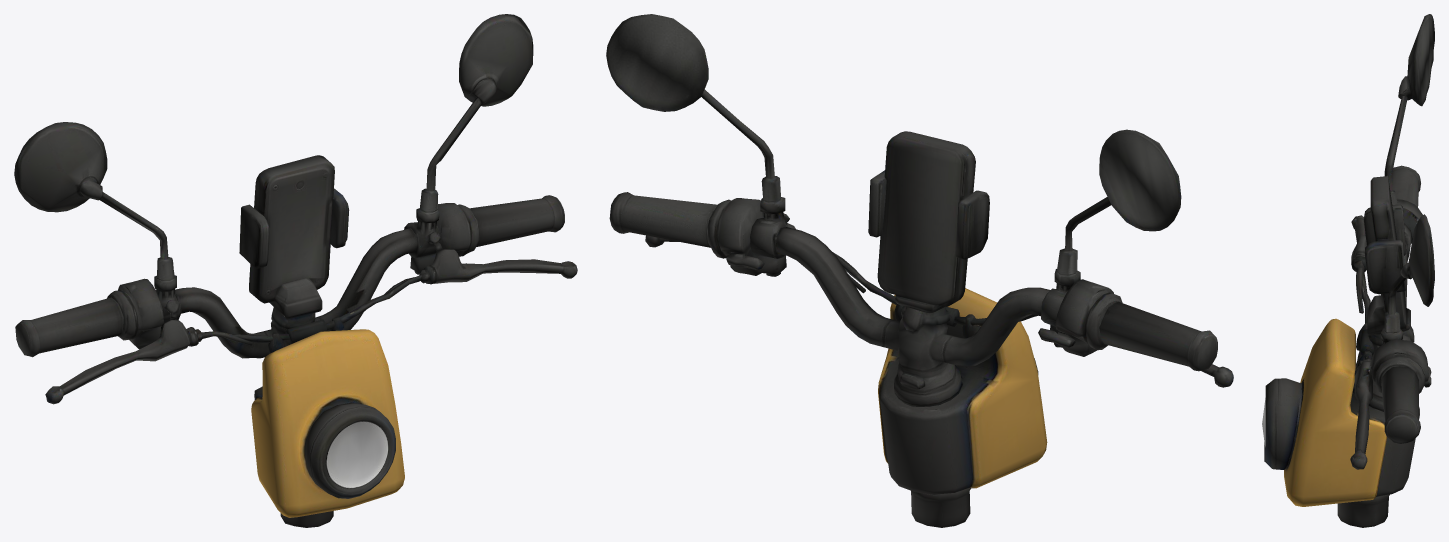
Rendered from rider-handlebars.glb.
3 views of the same model, side by side, from view 1: azimuth 30°, elevation 25°; view 2: azimuth 150°, elevation 25°; view 3: azimuth 270°, elevation 25° (orthographic). The views are drawn at different scales.
Visible parts, largest first — view 1: tripo_node_7adda636-4cb8-4a68-862d-76daeade8ec4; view 2: tripo_node_7adda636-4cb8-4a68-862d-76daeade8ec4; view 3: tripo_node_7adda636-4cb8-4a68-862d-76daeade8ec4.
Part boxes in pixels (<box>): tripo_node_7adda636-4cb8-4a68-862d-76daeade8ec4: <box>14,14,577,527</box>; tripo_node_7adda636-4cb8-4a68-862d-76daeade8ec4: <box>606,14,1233,527</box>; tripo_node_7adda636-4cb8-4a68-862d-76daeade8ec4: <box>1262,14,1434,527</box>.
Bounding box in the file's own units: 0.998 × 0.7559 × 0.2949.
Materials: 1 (1 with a texture image).
